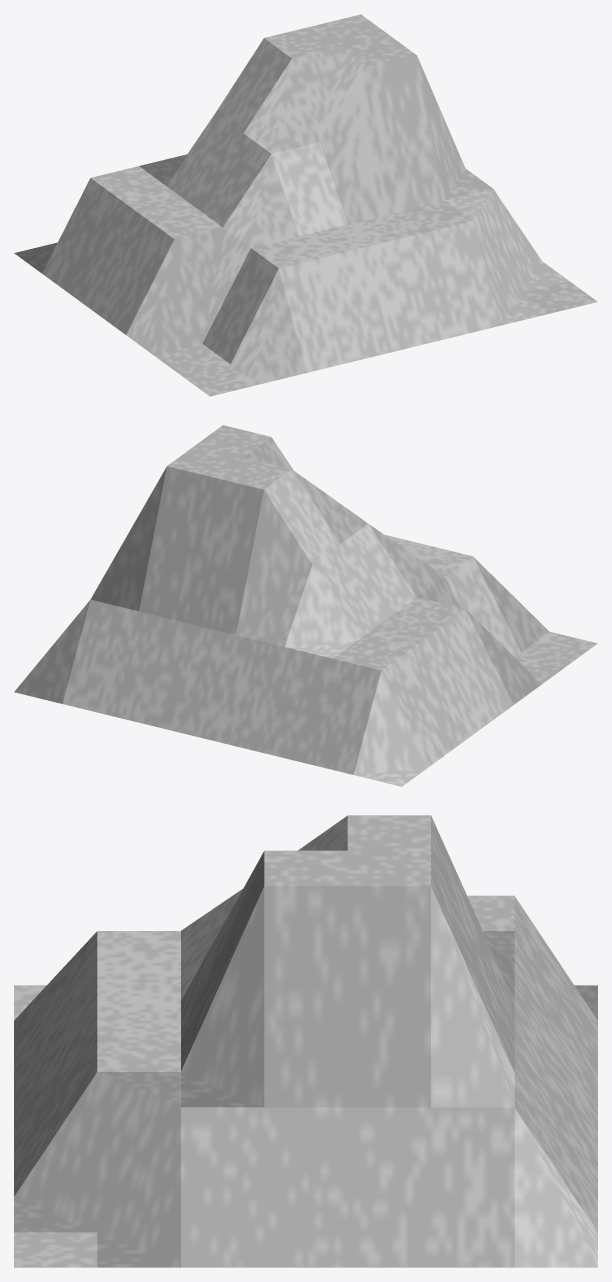
Rendered from rockv2.fbx.
The picture shows the model from 3 angles, top to bottom: view 1: azimuth 30°, elevation 25°; view 2: azimuth 150°, elevation 25°; view 3: azimuth 270°, elevation 25°; orthographic projection. The views are drawn at different scales.
Visible parts, largest first — view 1: Grid; view 2: Grid; view 3: Grid.
Boxes of the visible parts, x1=… form: Grid: x1=14, y1=14, x2=597, y2=396; Grid: x1=14, y1=425, x2=597, y2=786; Grid: x1=14, y1=815, x2=597, y2=1267.
Size of the model in its own units: 898 by 462 by 786.
1 material, 1 textured.
